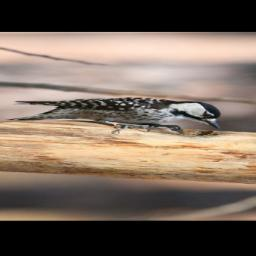Woodpecker: (6, 96, 224, 135)
